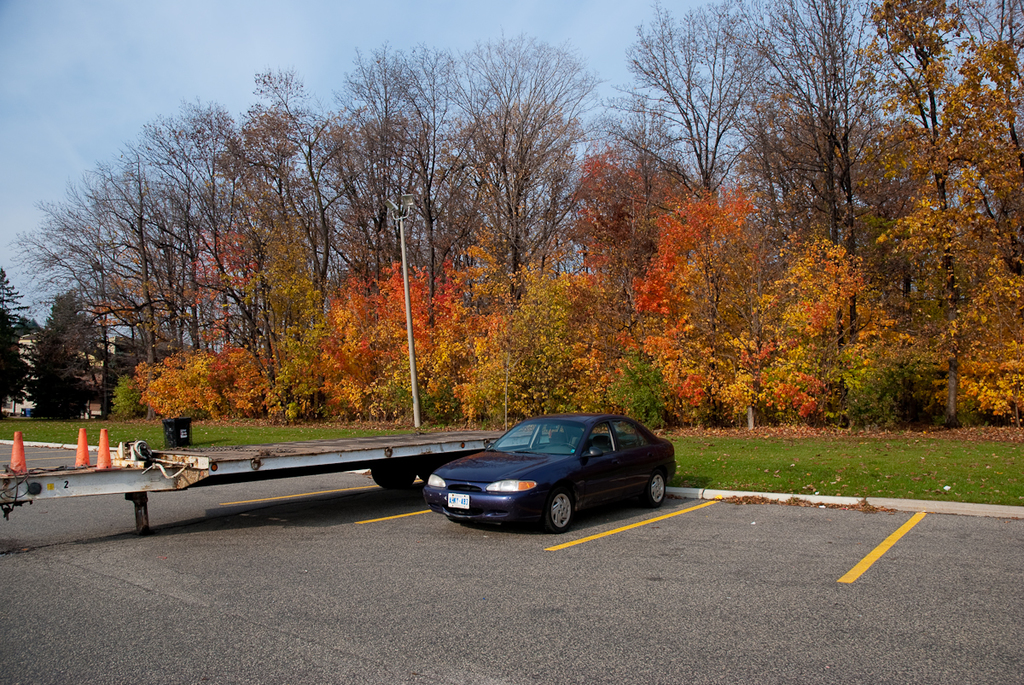Car: (424, 411, 677, 531)
